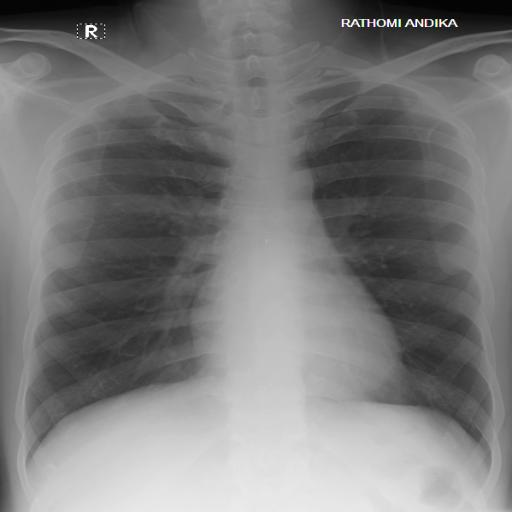normal: (13, 34, 512, 482)
